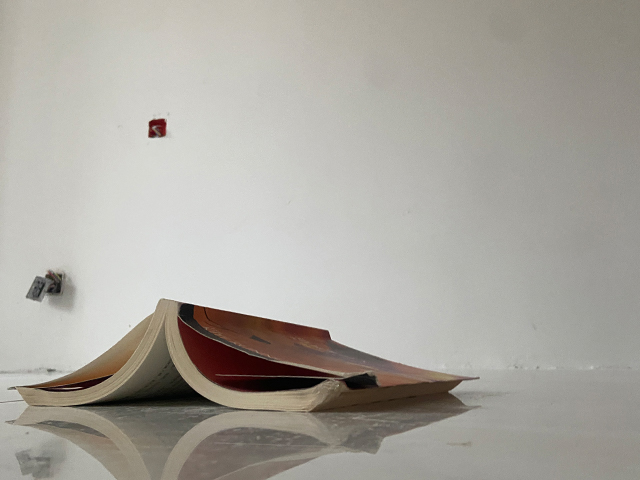book: (6, 297, 482, 414)
